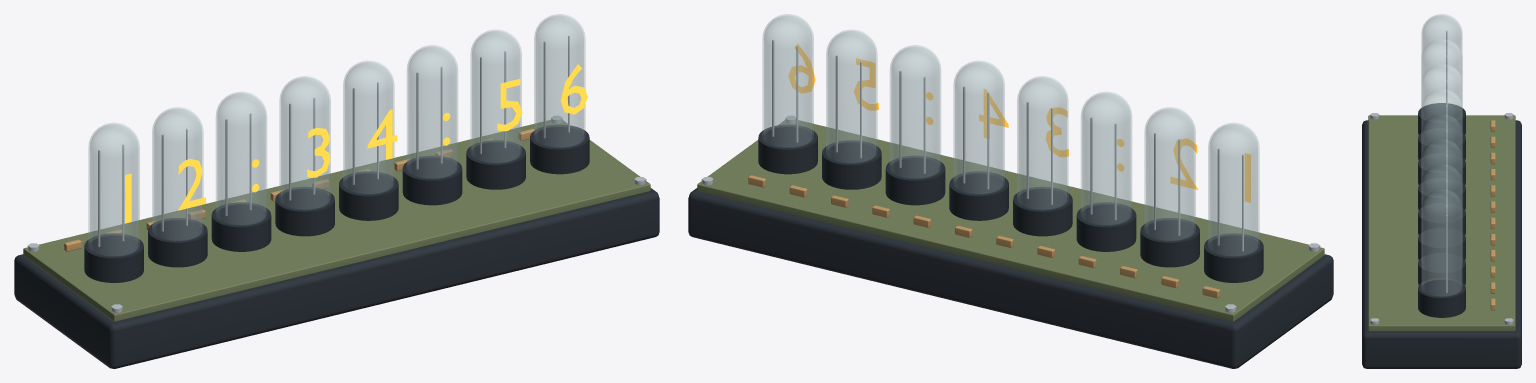
Rendered from divergence-clock.glb.
3 renders of one model, left to right at view 1: azimuth 30°, elevation 25°; view 2: azimuth 150°, elevation 25°; view 3: azimuth 270°, elevation 25°, orthographic. The views are drawn at different scales.
Visible parts, largest first — view 1: catalog_surface_RealismUV, catalog_surface_UVMap, Preview time.007, Preview time.004, Preview time.006, Preview time.001, Preview time.003; view 2: catalog_surface_RealismUV, catalog_surface_UVMap, Preview time.007, Preview time.004, Preview time.006, Preview time.001; view 3: catalog_surface_RealismUV, catalog_surface_UVMap.
Boxes of the visible parts, bbox=[...] form: catalog_surface_RealismUV: bbox=[14, 35, 659, 368]; catalog_surface_UVMap: bbox=[88, 14, 585, 256]; Preview time.007: bbox=[560, 64, 587, 114]; Preview time.004: bbox=[367, 109, 397, 159]; Preview time.006: bbox=[497, 79, 522, 131]; Preview time.001: bbox=[178, 159, 205, 210]; Preview time.003: bbox=[307, 128, 330, 177]; catalog_surface_RealismUV: bbox=[688, 40, 1333, 368]; catalog_surface_UVMap: bbox=[762, 14, 1259, 256]; Preview time.007: bbox=[788, 44, 815, 93]; Preview time.004: bbox=[979, 89, 1008, 138]; Preview time.006: bbox=[854, 58, 878, 110]; Preview time.001: bbox=[1170, 138, 1198, 189]; catalog_surface_RealismUV: bbox=[1362, 30, 1521, 368]; catalog_surface_UVMap: bbox=[1421, 14, 1462, 296].
Size of the model in its own units: 0.32 by 0.11 by 0.1.
